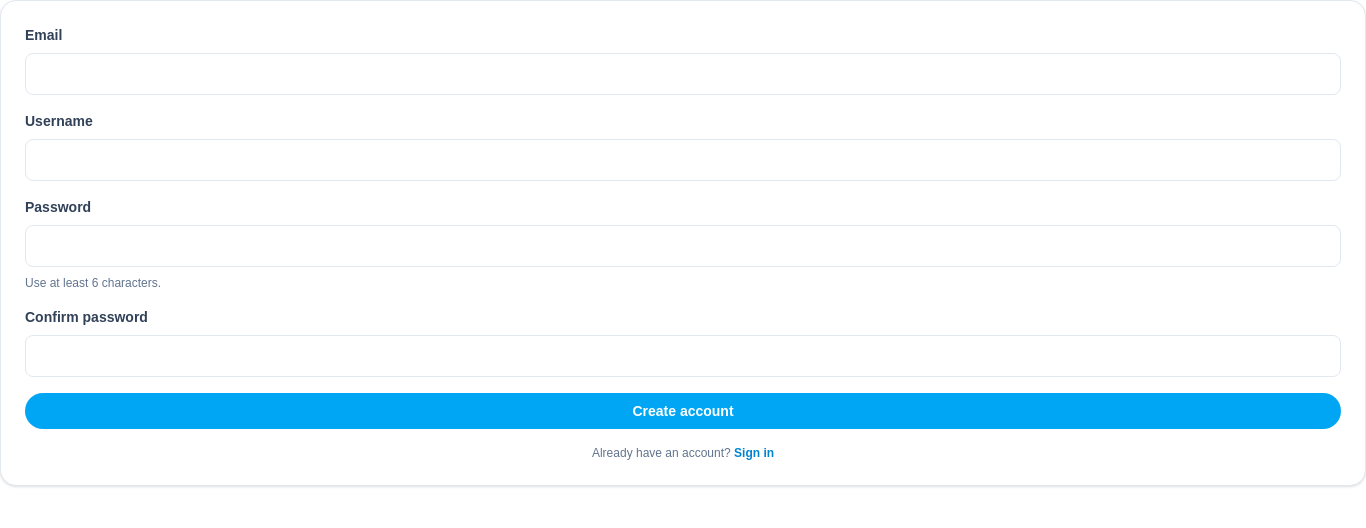
Test: SignUpForm › validates password confirmation
The width and height of the screenshot is (1366, 528).
In the field labelled "Email": (683, 74) [25,53,1341,95], type "alex@example.com"
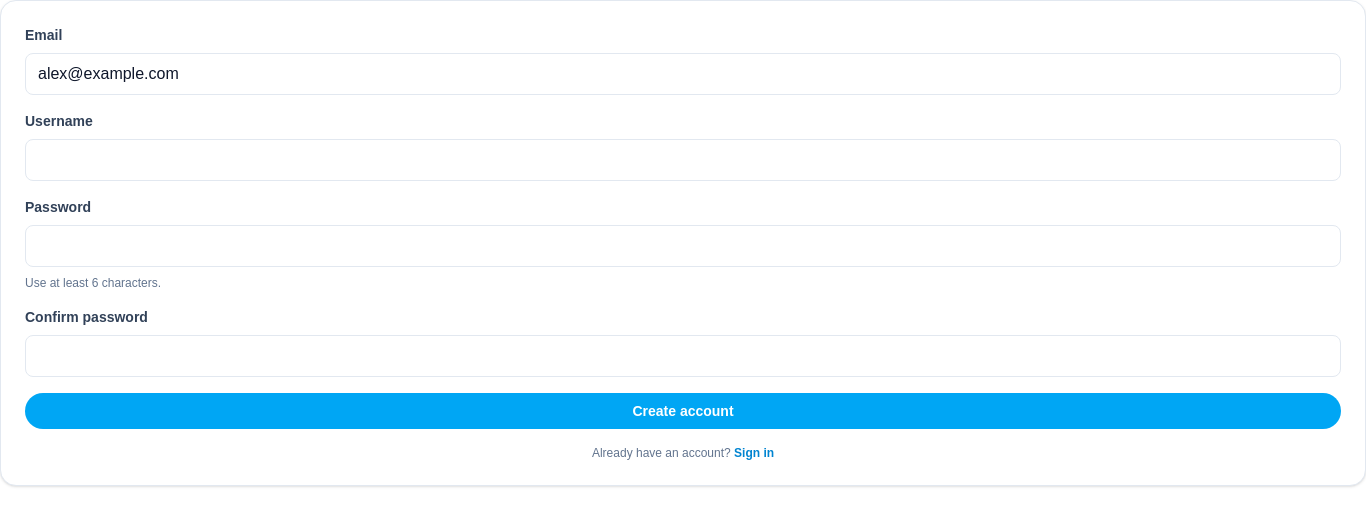
In the field labelled "Username": (683, 160) [25,139,1341,181], type "alex"
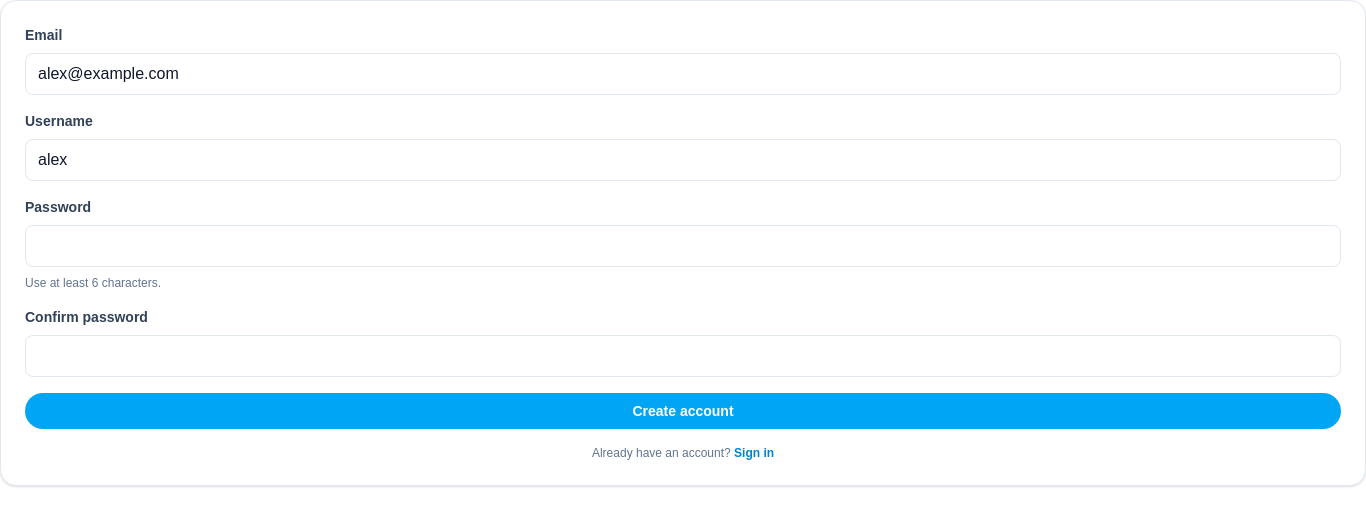
In the password field labelled "Password": (683, 246) [25,225,1341,267], type "secret"
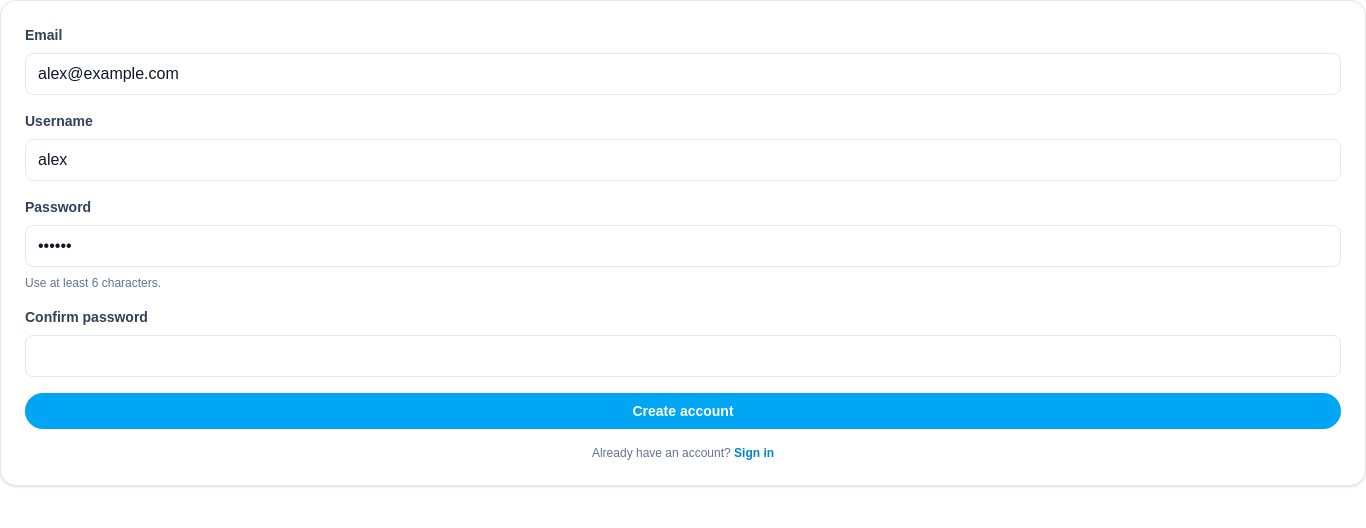
In the password field labelled "Confirm password": (683, 356) [25,335,1341,377], type "different"
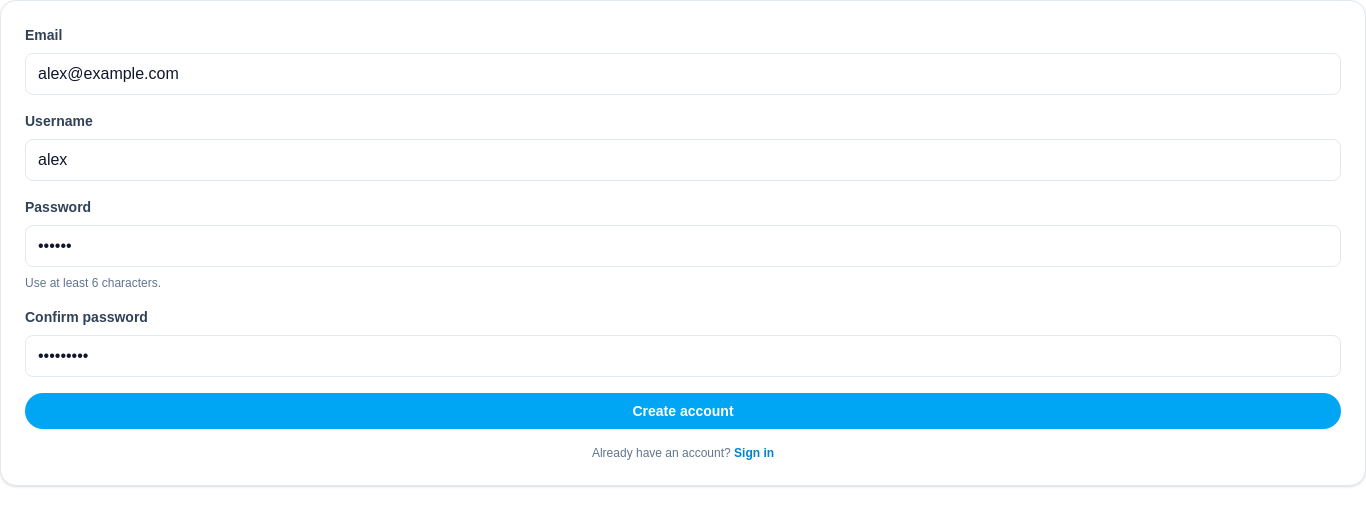
Click the button "Create account": (683, 411) [25,393,1341,429]
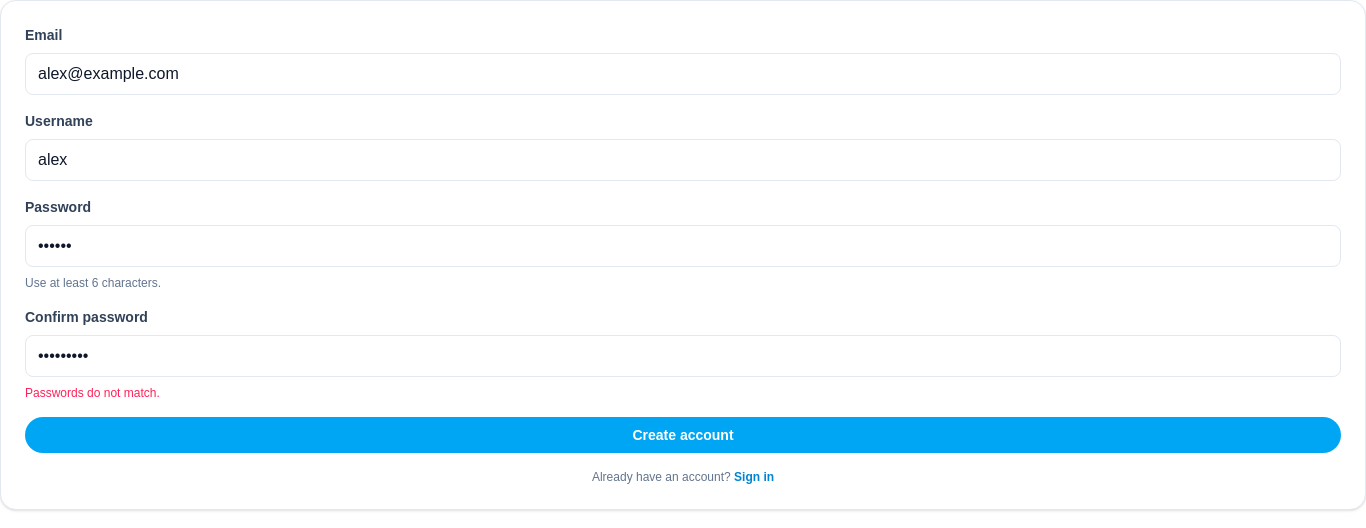
Now the text "Passwords do not match." is shown, box [25,386,160,400]
